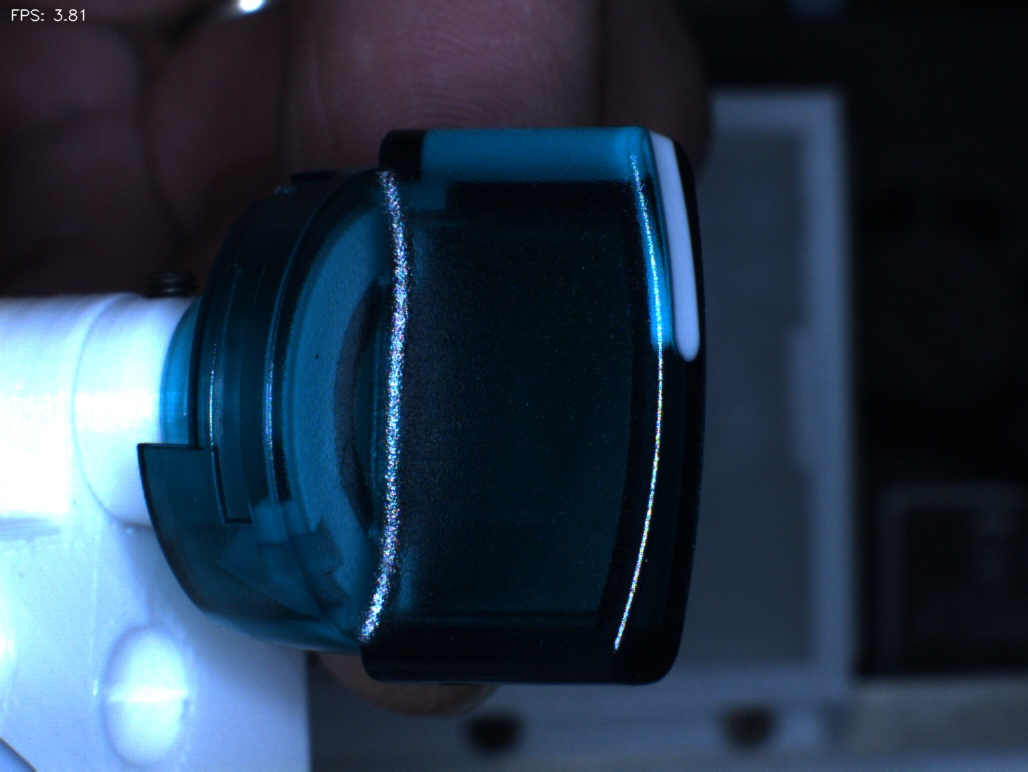PointNoir: (290, 317, 352, 390)
